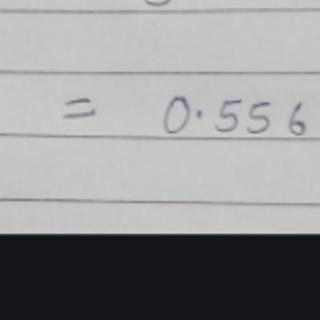.: (193, 107, 206, 120)
0: (161, 96, 192, 135)
5: (216, 99, 245, 134), (247, 101, 273, 133)
6: (288, 102, 308, 136)
